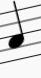note: (5, 0, 26, 65)
